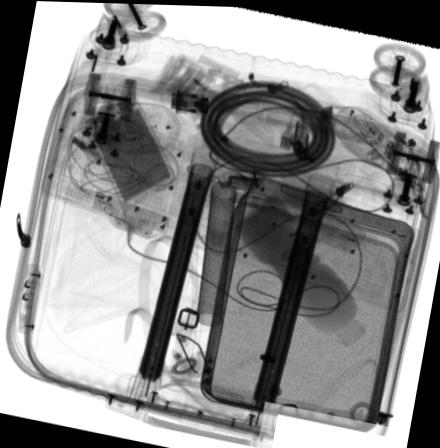Powerbank: (84, 91, 173, 210)
